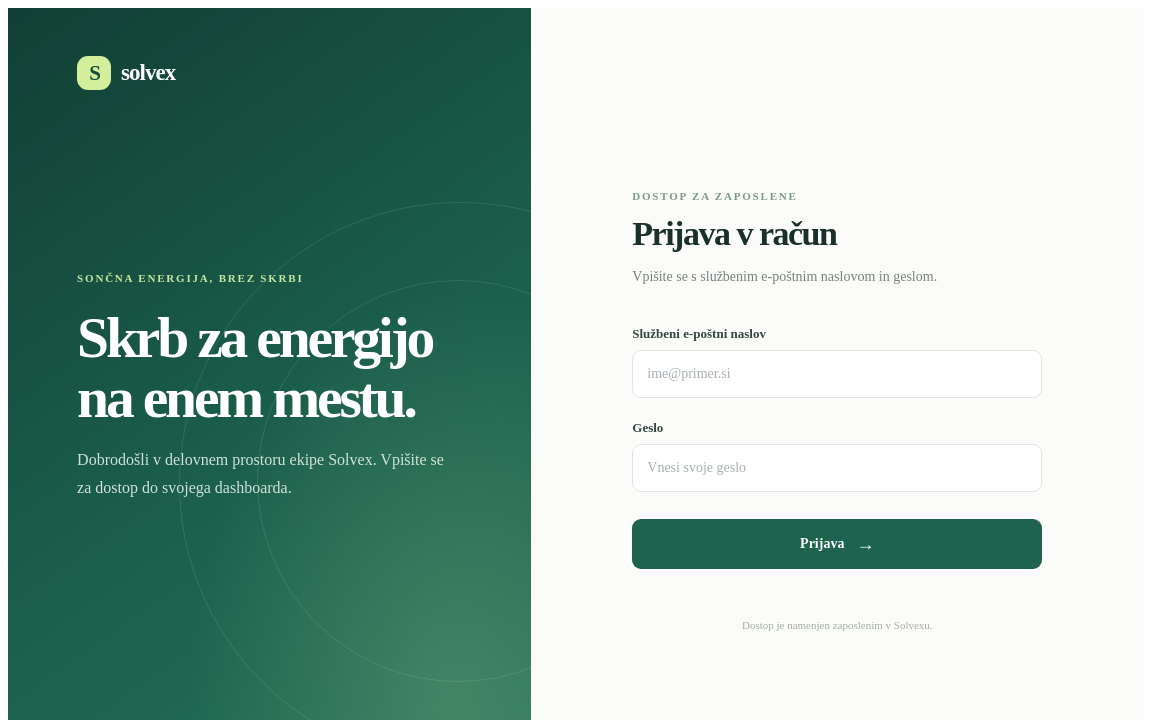
Test: Prijava zaposlenega › prikaže zavrnjene prijavne podatke in ostane na prijavi
Type "test@example.com" into the field labelled "Službeni e-poštni naslov" at coordinates (837, 374), box [632, 350, 1042, 398]
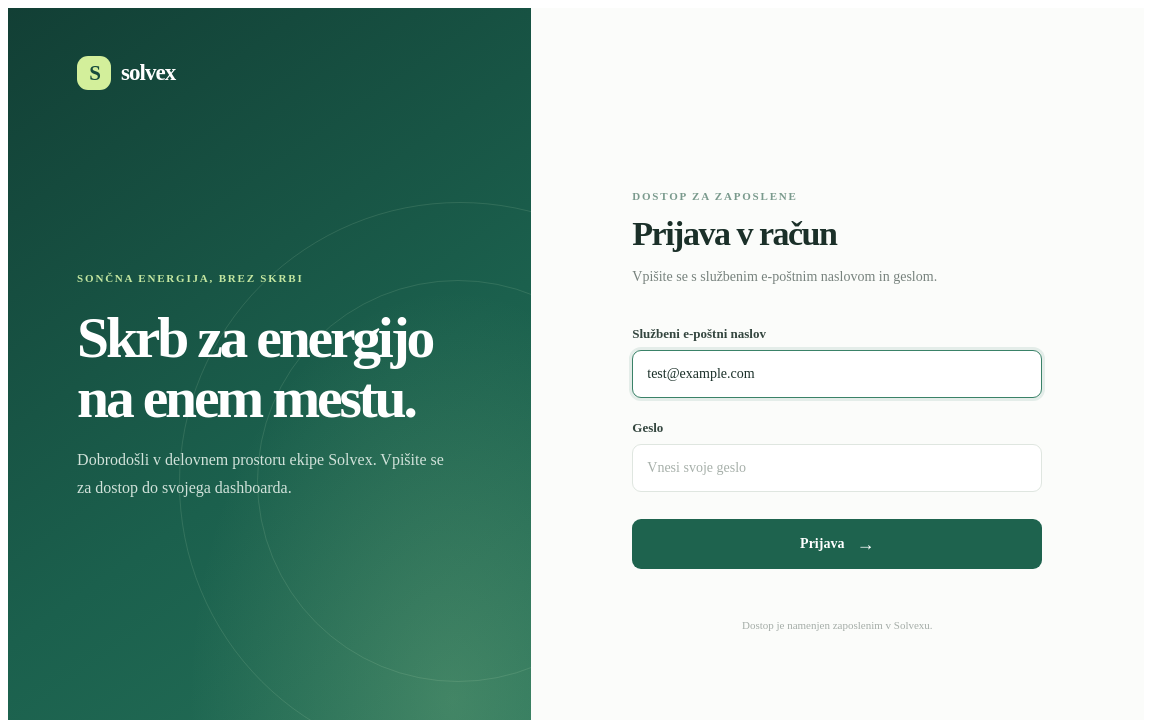
Type "TestPassword123!" into the password field labelled "Geslo" at coordinates (837, 468), box [632, 444, 1042, 492]
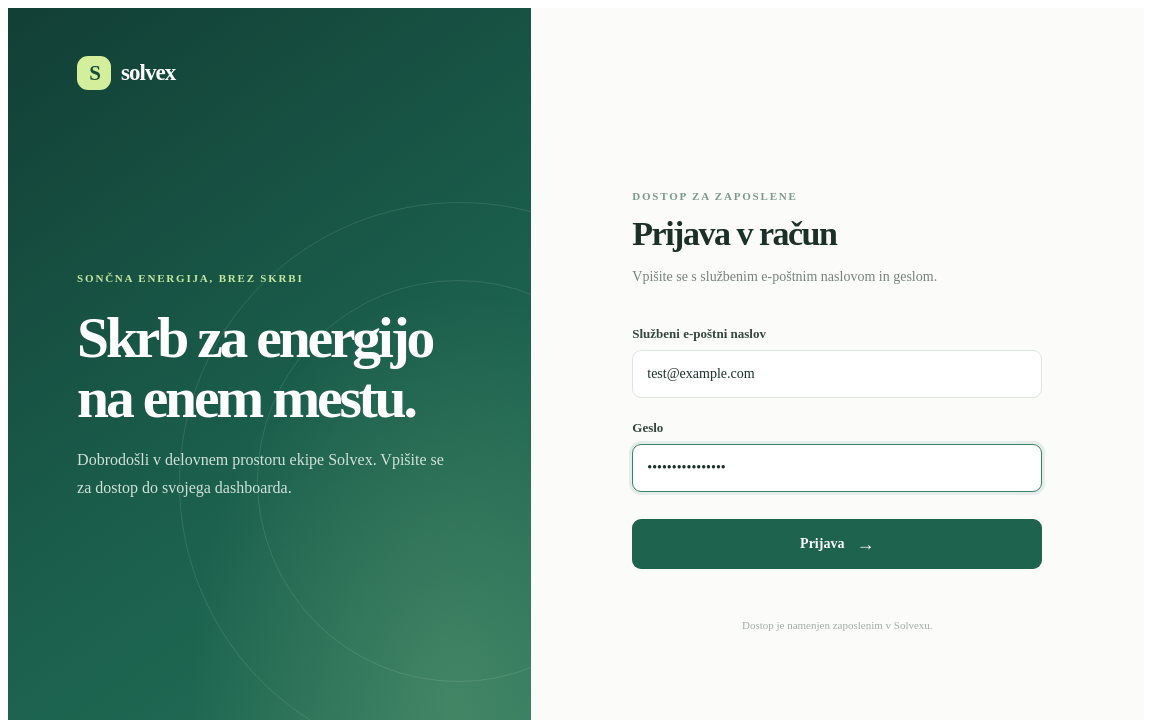
Click the button "Prijava →" at coordinates (837, 544), box [632, 519, 1042, 569]
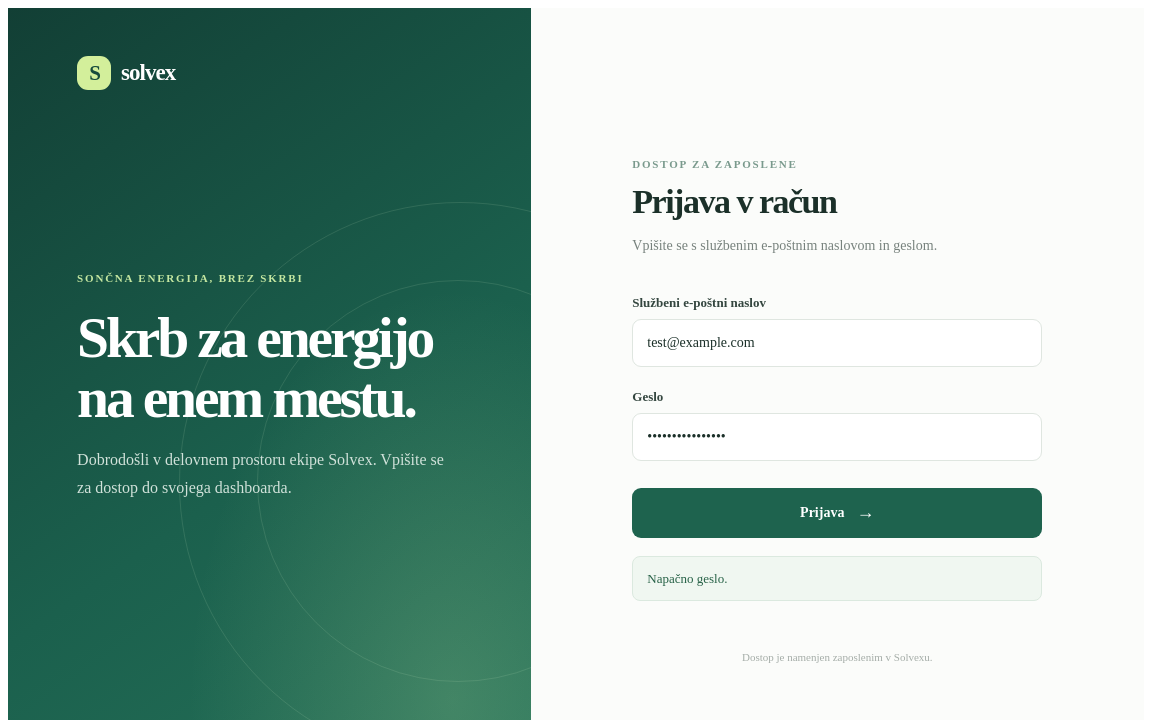
Expected: the button "Prijava →" is shown, [632, 488, 1042, 538]
Expected: the message reads "Napačno geslo.", [647, 571, 727, 586]
